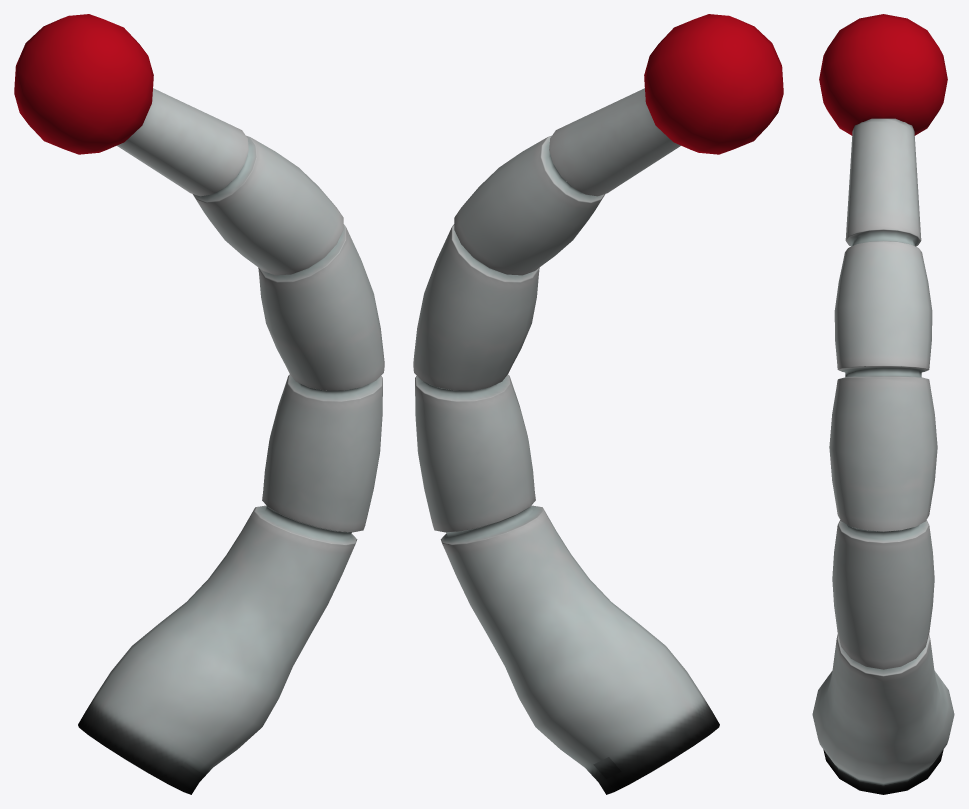
File: cola.obj
3 views of the same model, side by side, from view 1: azimuth 30°, elevation 25°; view 2: azimuth 150°, elevation 25°; view 3: azimuth 270°, elevation 25° (orthographic). The views are drawn at different scales.
Visible parts, largest first — view 1: Useless_Dog__tail; view 2: Useless_Dog__tail; view 3: Useless_Dog__tail.
Part boxes in pixels (x1,y1,x2,y2): Useless_Dog__tail: (14, 14, 384, 794); Useless_Dog__tail: (413, 14, 783, 794); Useless_Dog__tail: (812, 14, 954, 794).
Size of the model in its own units: 0.5094 by 1.08 by 0.1895.
